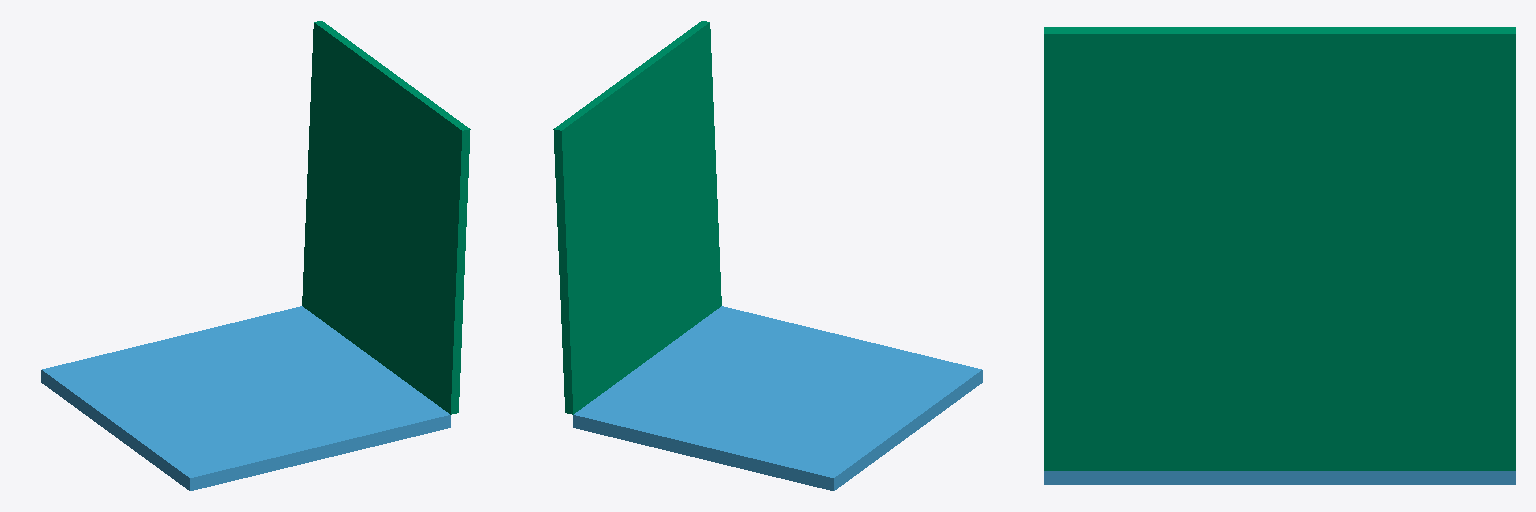
URDF robot description (procedural_laptop_0):
<?xml version="1.0" ?>
<robot name="procedural_laptop_0">
  <link name="root">
    <inertial>
      <origin xyz="0 0 0" rpy="0 0 0"/>
      <mass value="0.01"/>
      <inertia ixx="1e-6" ixy="0" ixz="0" iyy="1e-6" iyz="0" izz="1e-6"/>
    </inertial>
  </link>

  <joint name="base_fixed" type="fixed">
    <parent link="root"/>
    <child link="bottom"/>
    <origin xyz="0 0 0" rpy="0 0 0"/>
  </joint>

  <link name="bottom">
    <inertial>
      <origin xyz="0.0 0.0 0.004962602614291918" rpy="0 0 0"/>
      <mass value="1.0"/>
      <inertia ixx="1e-4" ixy="0" ixz="0" iyy="1e-4" iyz="0" izz="1e-4"/>
    </inertial>

    <visual>
      <origin xyz="0.0 0.0 0.004962602614291918" rpy="0 0 0"/>
      <geometry><box size="0.20557707193831534 0.20300129062672004 0.009925205228583835"/></geometry>
    </visual>
    <collision>
      <origin xyz="0.0 0.0 0.004962602614291918" rpy="0 0 0"/>
      <geometry><box size="0.20557707193831534 0.20300129062672004 0.009925205228583835"/></geometry>
    </collision>
  </link>

  <joint name="rotation" type="revolute">
    <parent link="bottom"/>
    <child link="top"/>
    <origin xyz="0.10278853596915767 0 0.009925205228583835" rpy="0 0 0"/>
    <axis xyz="0 1 0"/>
    <dynamics damping="2.0" friction="0.5"/>
    <limit effort="50.0" velocity="50.0" lower="0.087" upper="3.141592653589793"/>
  </joint>

  <link name="top">
    <inertial>
      <origin xyz="-0.10603182110188879 0.0 0.003227659059818525" rpy="0 0 0"/>
      <mass value="0.2"/>
      <inertia ixx="1e-4" ixy="0" ixz="0" iyy="1e-4" iyz="0" izz="1e-4"/>
    </inertial>

    <visual>
      <origin xyz="-0.10603182110188879 0.0 0.003227659059818525" rpy="0 0 0"/>
      <geometry><box size="0.21206364220377757 0.20300129062672004 0.00645531811963705"/></geometry>
    </visual>
    <collision>
      <origin xyz="-0.10603182110188879 0.0 0.003227659059818525" rpy="0 0 0"/>
      <geometry><box size="0.21206364220377757 0.20300129062672004 0.00645531811963705"/></geometry>
    </collision>
  </link>
</robot>

--- Facts derived from the render (not from the file) ---
3 views of the same robot in one strip: view 1: azimuth 30°, elevation 25°; view 2: azimuth 150°, elevation 25°; view 3: azimuth 270°, elevation 25° (orthographic).
Robot: procedural_laptop_0 — 3 links, 2 joints (1 revolute, 1 fixed); root link root; default pose: all joints at 0 but 1 set to mid-range because 0 is outside their limits (rotation = 1.61).
Visible links, largest first — view 1: top, bottom; view 2: top, bottom; view 3: top, bottom.
Boxes of the visible links, x1=… form: top: x1=302, y1=21, x2=470, y2=414; bottom: x1=41, y1=306, x2=450, y2=490; top: x1=553, y1=21, x2=721, y2=414; bottom: x1=573, y1=306, x2=982, y2=490; top: x1=1044, y1=27, x2=1515, y2=470; bottom: x1=1044, y1=471, x2=1515, y2=484.
Bounding box of the posed robot: 0.2212 × 0.203 × 0.2218 m (x, y, z).
Geometry: primitives only (box / cylinder / sphere), no mesh files.
